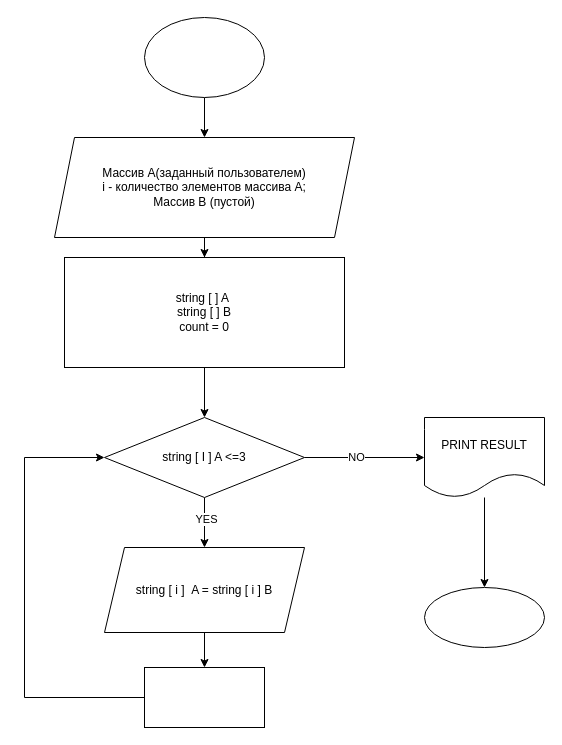
The diagram is 562 pixels wide and 745 high, and some of its shapes have lost their labels. The shapes that lost their labels are listed below. From the top down, each one's box as (x1, y1, x2, y2) in pixels, then its label:
(144, 16, 264, 98): START
(424, 586, 544, 648): FINISH
(144, 666, 264, 728): i= i+1
